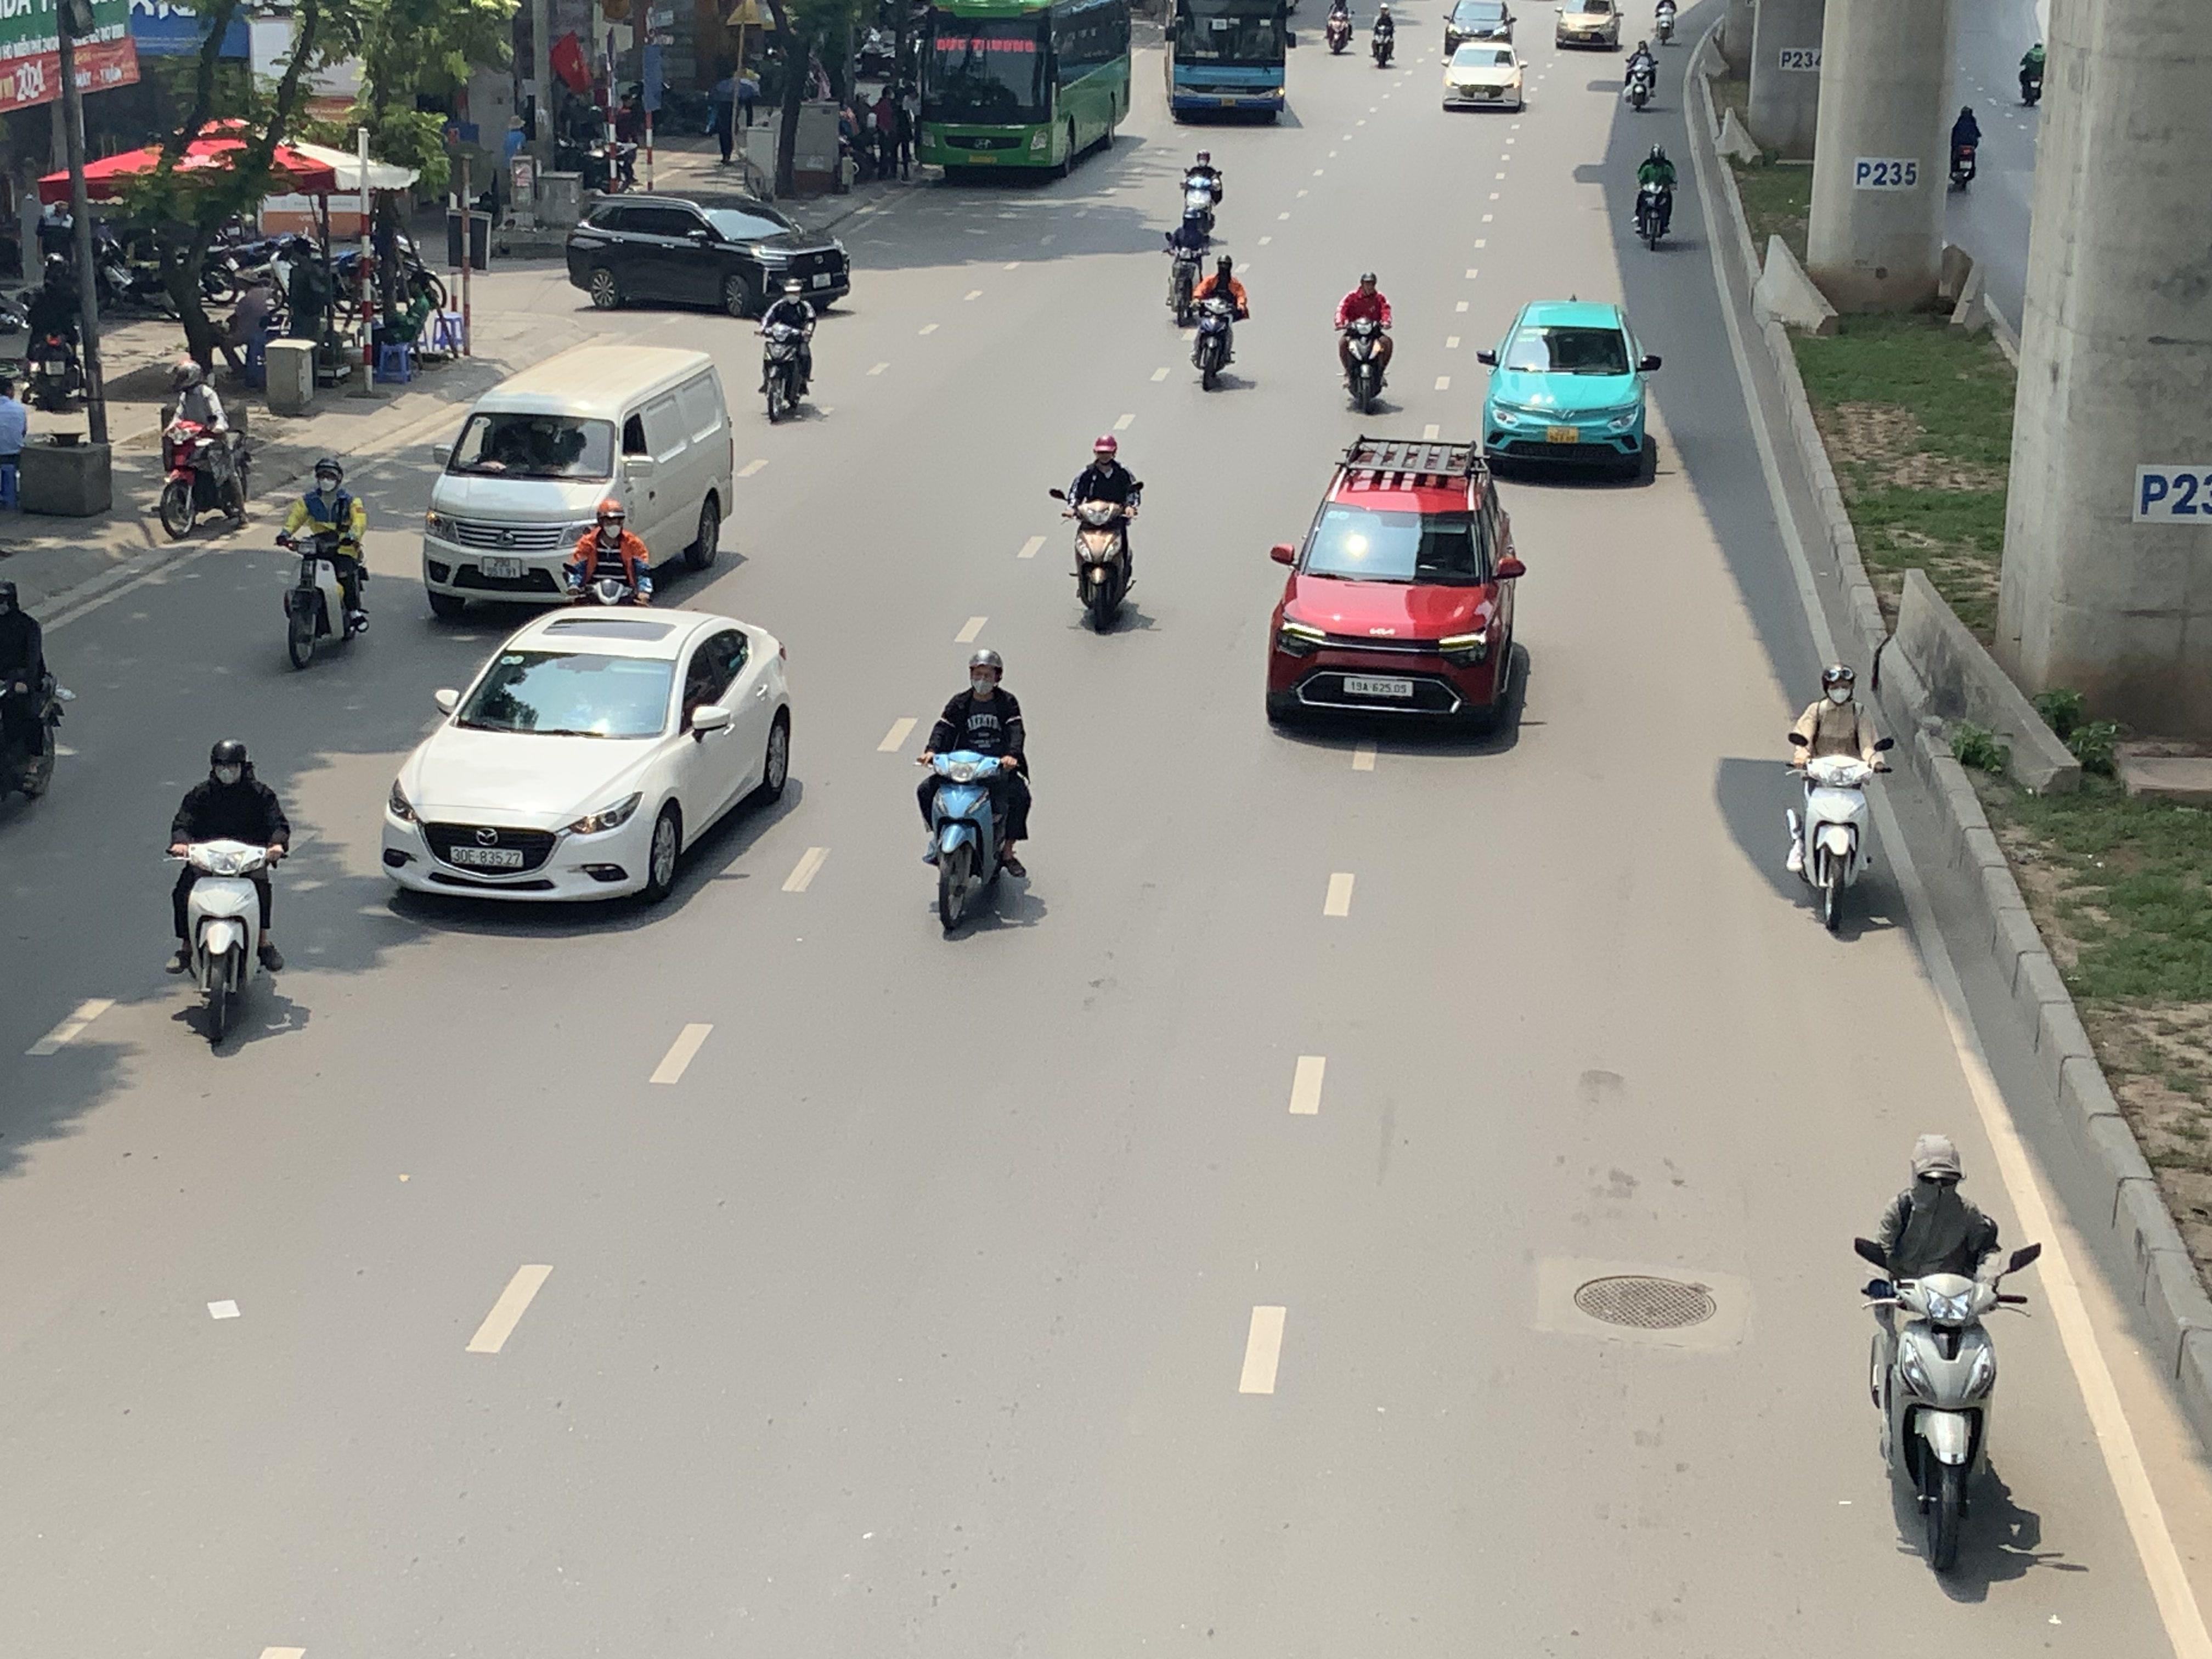BSD: (449, 845, 523, 868), (1343, 676, 1413, 697)
BSV: (481, 556, 523, 579), (1545, 427, 1578, 443)
bus: (415, 349, 747, 615), (911, 0, 1134, 183), (1163, 0, 1296, 124)
car: (380, 603, 796, 911), (1263, 436, 1531, 742), (564, 190, 852, 319), (1475, 298, 1663, 483), (1440, 40, 1527, 112), (1442, 0, 1515, 56), (1554, 0, 1623, 49)
motorbike: (1855, 1131, 2041, 1577), (165, 735, 287, 1053), (916, 647, 1031, 939), (1785, 662, 1893, 938), (275, 455, 371, 671), (0, 579, 68, 836), (155, 364, 254, 540), (1057, 434, 1141, 636), (563, 498, 655, 608), (756, 274, 820, 423), (1336, 268, 1395, 415), (1188, 253, 1245, 390), (1162, 199, 1216, 324), (1632, 141, 1677, 251), (1177, 148, 1226, 228), (1947, 105, 1982, 193), (1622, 37, 1660, 112), (2017, 35, 2047, 108), (1369, 0, 1399, 68), (1324, 0, 1357, 54), (1653, 0, 1679, 44)
